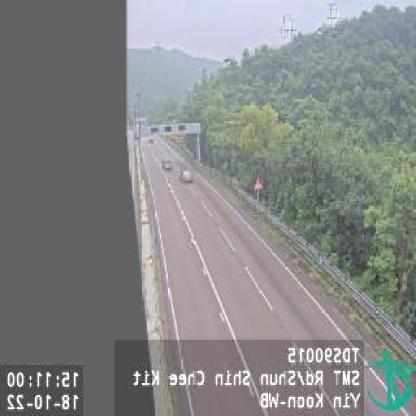Car: (177, 166, 192, 182), (162, 158, 174, 172)
